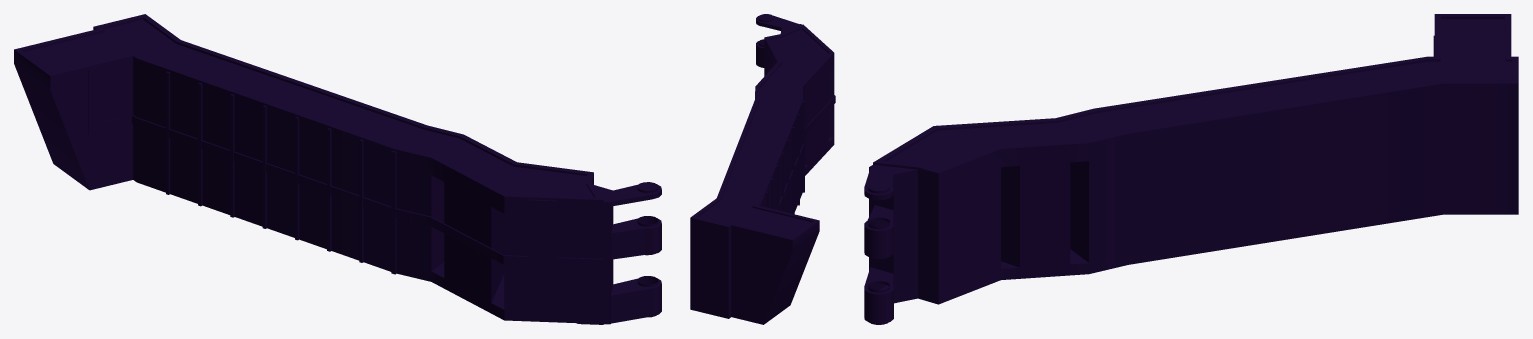
Rendered from service right approach_02.FBX.
The picture shows the model from 3 angles, left to right: view 1: azimuth 30°, elevation 25°; view 2: azimuth 150°, elevation 25°; view 3: azimuth 270°, elevation 25°; orthographic projection. The views are drawn at different scales.
Visible parts, largest first — view 1: service right approach_02; view 2: service right approach_02; view 3: service right approach_02.
Part boxes in pixels (x1,y1,x2,y2): service right approach_02: (14, 14, 661, 324); service right approach_02: (690, 14, 835, 324); service right approach_02: (864, 14, 1518, 324).
Size of the model in its own units: 800 by 280 by 1236.
